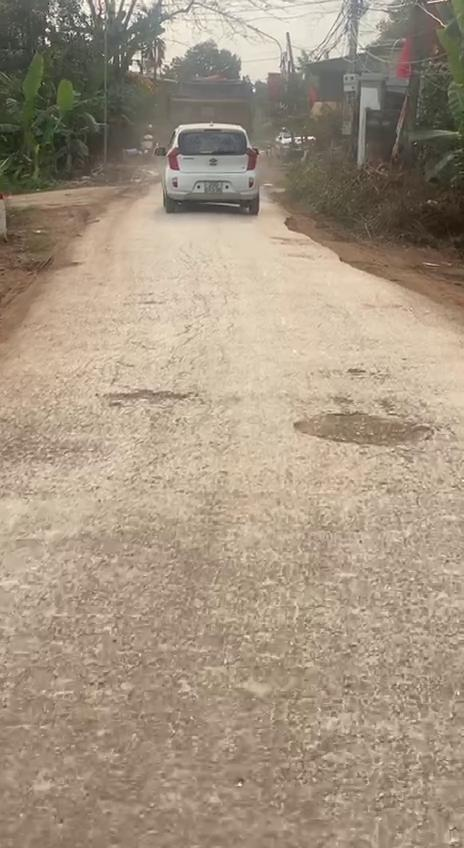pothole: (284, 407, 433, 448), (106, 386, 190, 407)
